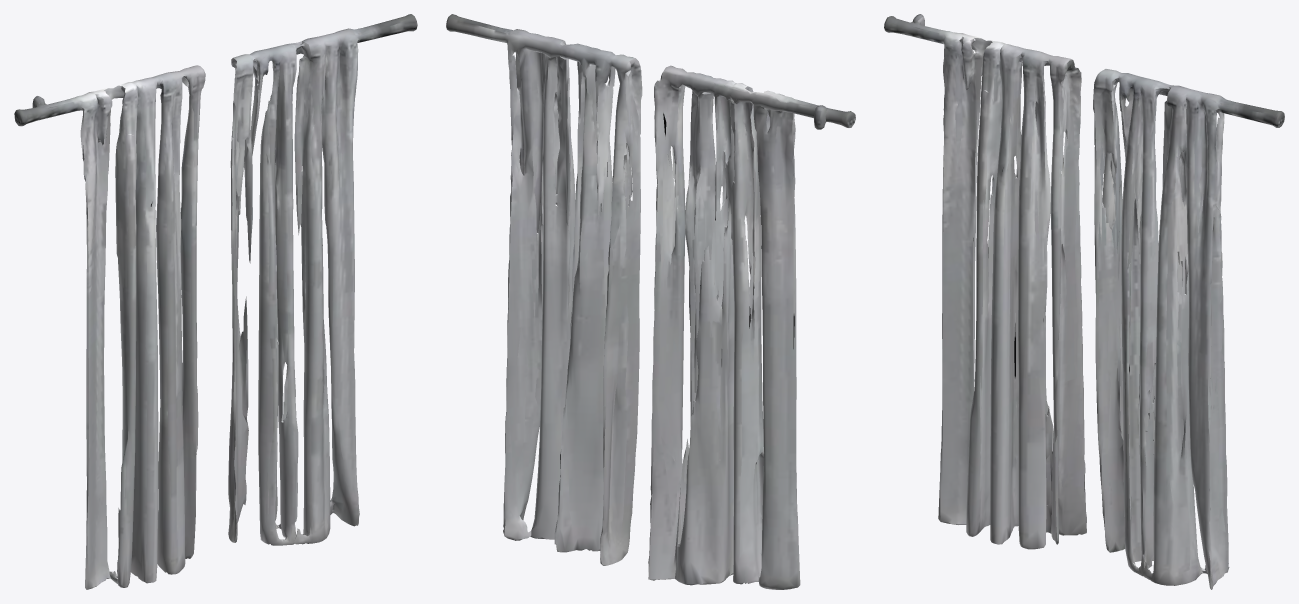
The model's file is strip-curtain.glb.
3 views of the same model, side by side, from view 1: azimuth 30°, elevation 25°; view 2: azimuth 150°, elevation 25°; view 3: azimuth 330°, elevation 25° (orthographic). The views are drawn at different scales.
Visible parts, largest first — view 1: cowninja-strip-curtain; view 2: cowninja-strip-curtain; view 3: cowninja-strip-curtain.
Boxes of the visible parts, <box> form: cowninja-strip-curtain: <box>14,14,417,589</box>; cowninja-strip-curtain: <box>446,14,855,589</box>; cowninja-strip-curtain: <box>884,14,1284,589</box>.
Bounding box in the file's own units: 2.4 × 2.87 × 0.3546.
1 material, 1 textured.
